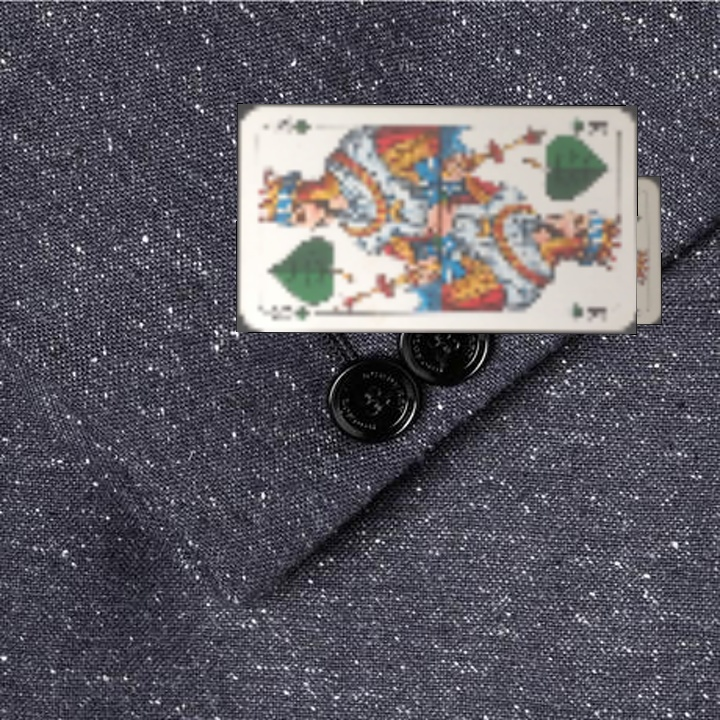GK: (261, 297, 320, 324), (571, 112, 610, 139)
